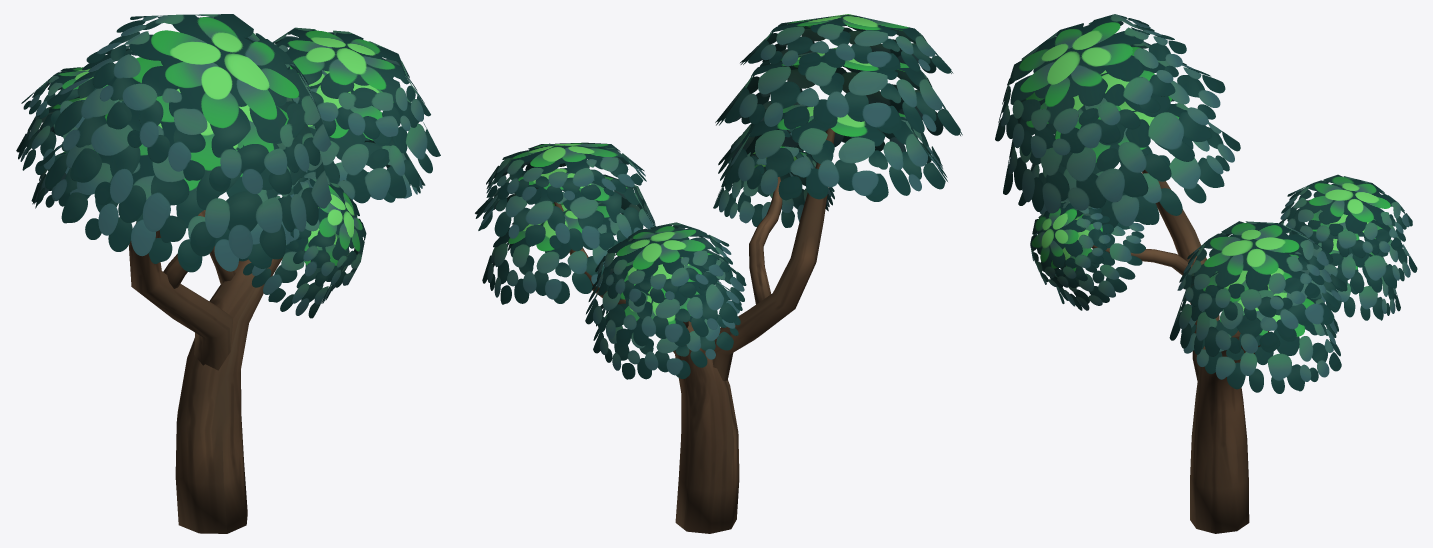
The model's file is TreeAqua.fbx.
The picture shows the model from 3 angles, left to right: view 1: azimuth 30°, elevation 25°; view 2: azimuth 150°, elevation 25°; view 3: azimuth 270°, elevation 25°; orthographic projection. The views are drawn at different scales.
Visible parts, largest first — view 1: BlueLeaf.025, BlueLeaf.026, Log1.003, BlueLeaf.028, BlueLeaf.027, BlueLeaf.029, Branch1.003, BlueLeaf.031, BlueLeaf.032, BlueLeaf.023, BlueLeaf.022, BlueLeaf.030 (+1 smaller); view 2: BlueLeaf.027, BlueLeaf.026, Log1.003, BlueLeaf.025, BlueLeaf.022, BlueLeaf.029, BlueLeaf.023, BlueLeaf.028, BlueLeaf.030, Branch1.003, BlueLeaf.024, BlueLeaf.032 (+1 smaller); view 3: BlueLeaf.025, BlueLeaf.026, BlueLeaf.028, Log1.003, BlueLeaf.022, BlueLeaf.029, BlueLeaf.027, BlueLeaf.030, BlueLeaf.031, BlueLeaf.032, BlueLeaf.023, BlueLeaf.024 (+2 smaller).
Boxes of the visible parts, bbox=[...] form: BlueLeaf.025: bbox=[86, 14, 331, 194]; BlueLeaf.026: bbox=[47, 45, 331, 259]; Log1.003: bbox=[175, 257, 282, 533]; BlueLeaf.028: bbox=[272, 27, 430, 139]; BlueLeaf.027: bbox=[37, 99, 303, 272]; BlueLeaf.029: bbox=[277, 66, 440, 203]; Branch1.003: bbox=[129, 222, 232, 370]; BlueLeaf.031: bbox=[278, 177, 366, 287]; BlueLeaf.032: bbox=[239, 187, 349, 318]; BlueLeaf.023: bbox=[16, 96, 94, 174]; BlueLeaf.022: bbox=[21, 67, 124, 128]; BlueLeaf.030: bbox=[283, 125, 425, 202]; BlueLeaf.027: bbox=[718, 104, 947, 201]; BlueLeaf.026: bbox=[715, 47, 962, 135]; Log1.003: bbox=[554, 202, 739, 533]; BlueLeaf.025: bbox=[740, 14, 953, 73]; BlueLeaf.022: bbox=[595, 222, 732, 306]; BlueLeaf.029: bbox=[475, 168, 655, 251]; BlueLeaf.023: bbox=[585, 249, 746, 346]; BlueLeaf.028: bbox=[486, 142, 646, 204]; BlueLeaf.030: bbox=[482, 200, 646, 304]; Branch1.003: bbox=[712, 128, 835, 380]; BlueLeaf.024: bbox=[593, 271, 741, 379]; BlueLeaf.032: bbox=[713, 146, 834, 227]; BlueLeaf.025: bbox=[995, 14, 1186, 157]; BlueLeaf.026: bbox=[1003, 41, 1225, 213]; BlueLeaf.028: bbox=[1177, 221, 1333, 320]; Log1.003: bbox=[1190, 285, 1269, 533]; BlueLeaf.022: bbox=[1280, 174, 1412, 258]; BlueLeaf.029: bbox=[1169, 250, 1347, 356]; BlueLeaf.027: bbox=[1018, 96, 1240, 227]; BlueLeaf.030: bbox=[1180, 285, 1341, 393]; BlueLeaf.031: bbox=[1030, 201, 1113, 287]; BlueLeaf.032: bbox=[1050, 214, 1145, 310]; BlueLeaf.023: bbox=[1279, 199, 1417, 292]; BlueLeaf.024: bbox=[1307, 225, 1400, 320].
Size of the model in its own units: 724 by 850 by 721.
